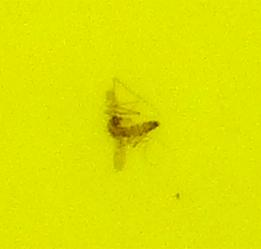Nematocera: (100, 100, 161, 149)
